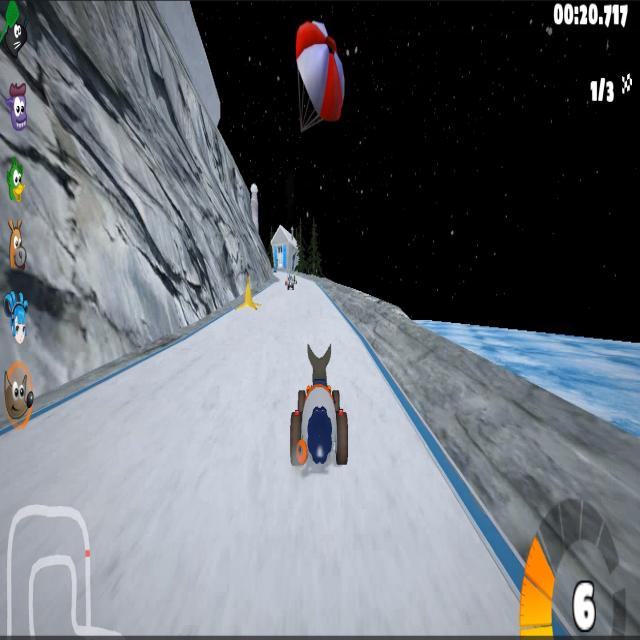enemy_kart: (286, 274, 297, 290)
obstacle: (235, 276, 258, 317)
player_kart: (286, 341, 349, 486)
track: (4, 438, 212, 635), (210, 474, 476, 594), (208, 320, 286, 478), (89, 379, 209, 442), (264, 290, 333, 326), (160, 343, 210, 371)
